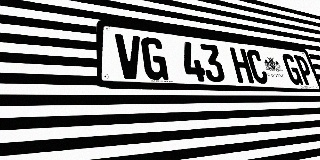3: (200, 44, 226, 82)
4: (180, 41, 207, 82)
C: (245, 49, 270, 84)
G: (141, 36, 169, 80), (281, 53, 304, 85)
H: (229, 47, 254, 83)
P: (293, 55, 316, 86)
V: (115, 33, 144, 80)
